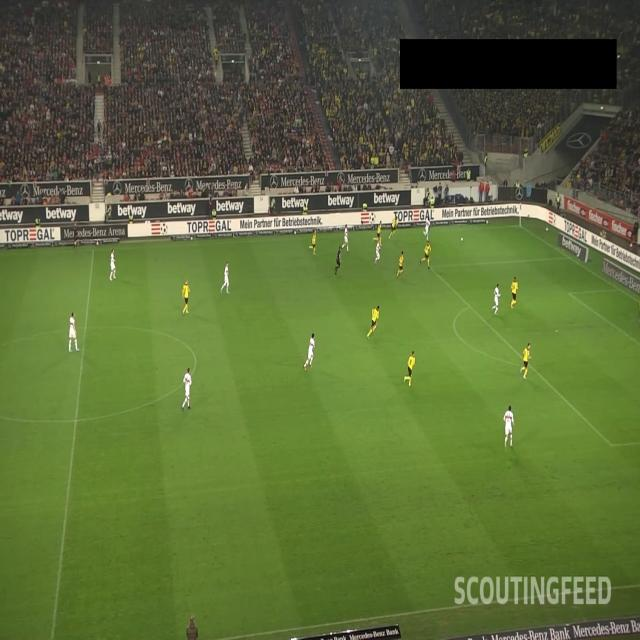ball: (461, 236, 464, 242)
